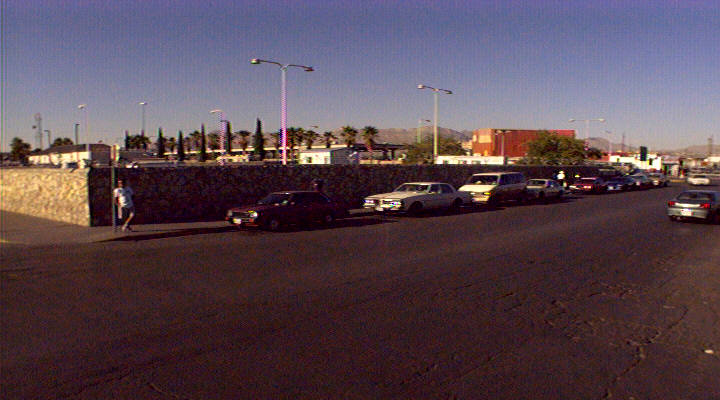Ramp: (1, 218, 109, 247)
